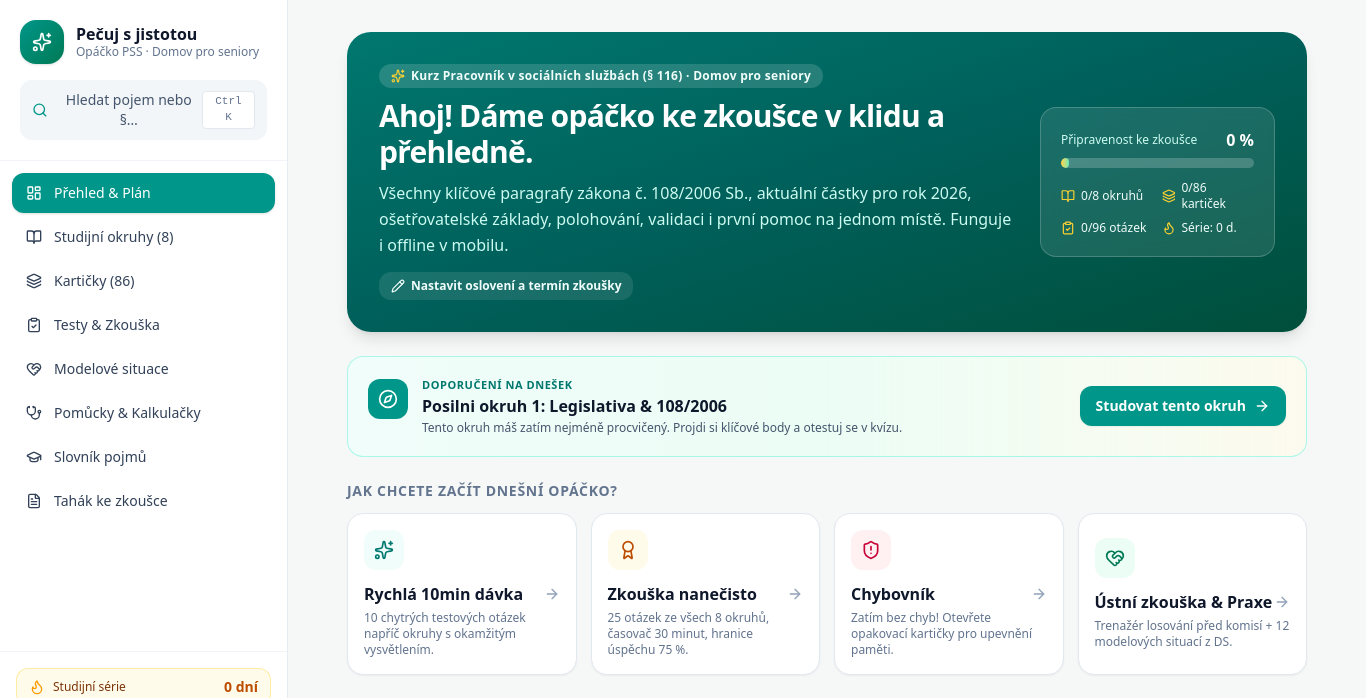
Test case: End-to-End UI Integration Flows (<App />) › navigates Dashboard -> Studijní okruhy, expands chapters, and marks module completed
The image size is (1366, 698).
Expected: the text "Připravenost ke zkoušce" is shown, [1061,132,1197,148]
Navigate to Studijní okruhy via sidebar
Click the button "Studijní okruhy (8)" at point(144, 237), box [12,217,275,257]
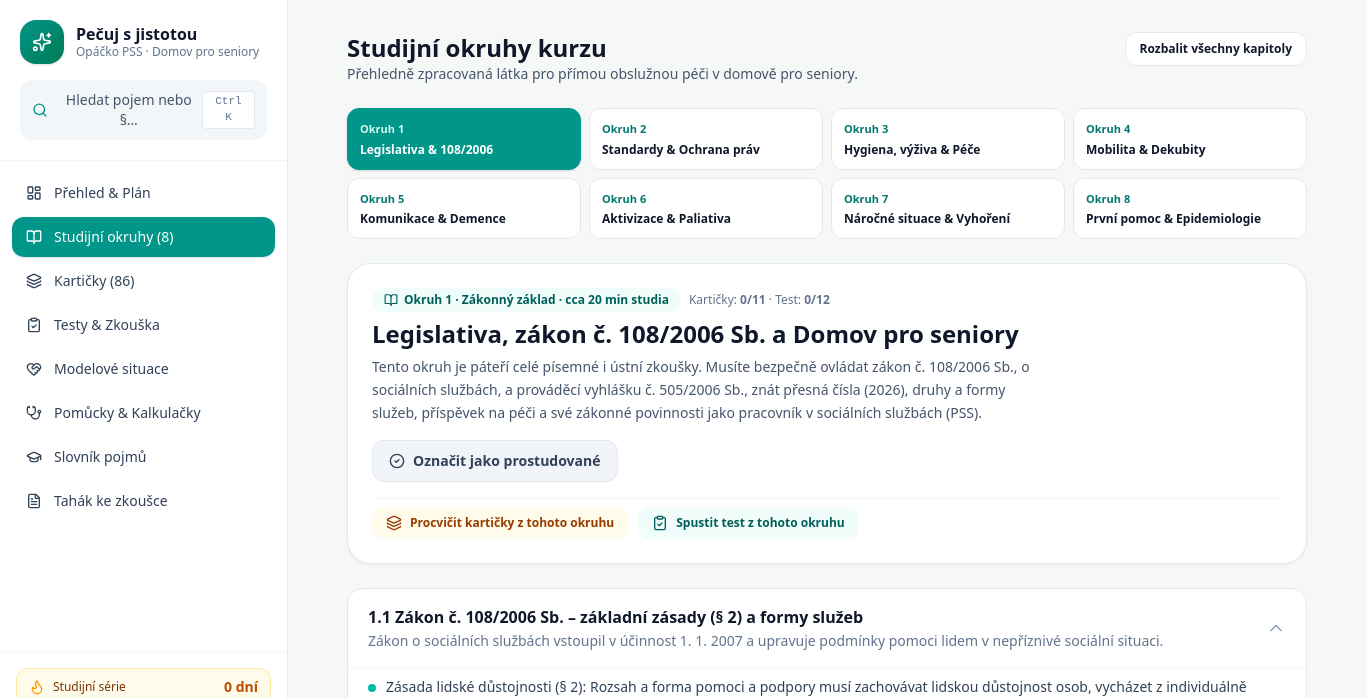
Expected: the heading "Studijní okruhy kurzu" is shown, [347,31,607,64]
Expand all chapters
Click the button "Rozbalit všechny kapitoly" at point(1216, 49), box [1125,32,1307,66]
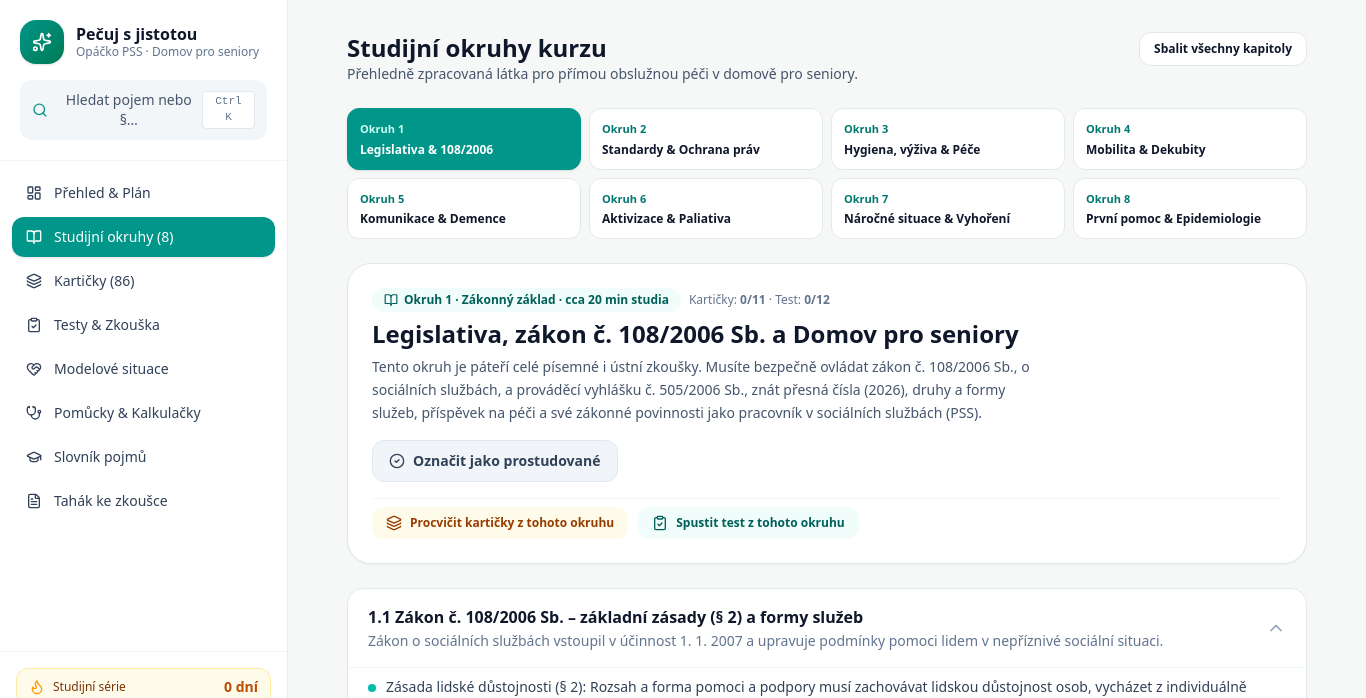
Mark as completed
Click the button "Označit jako prostudované" at point(495, 461), box [372,440,618,482]
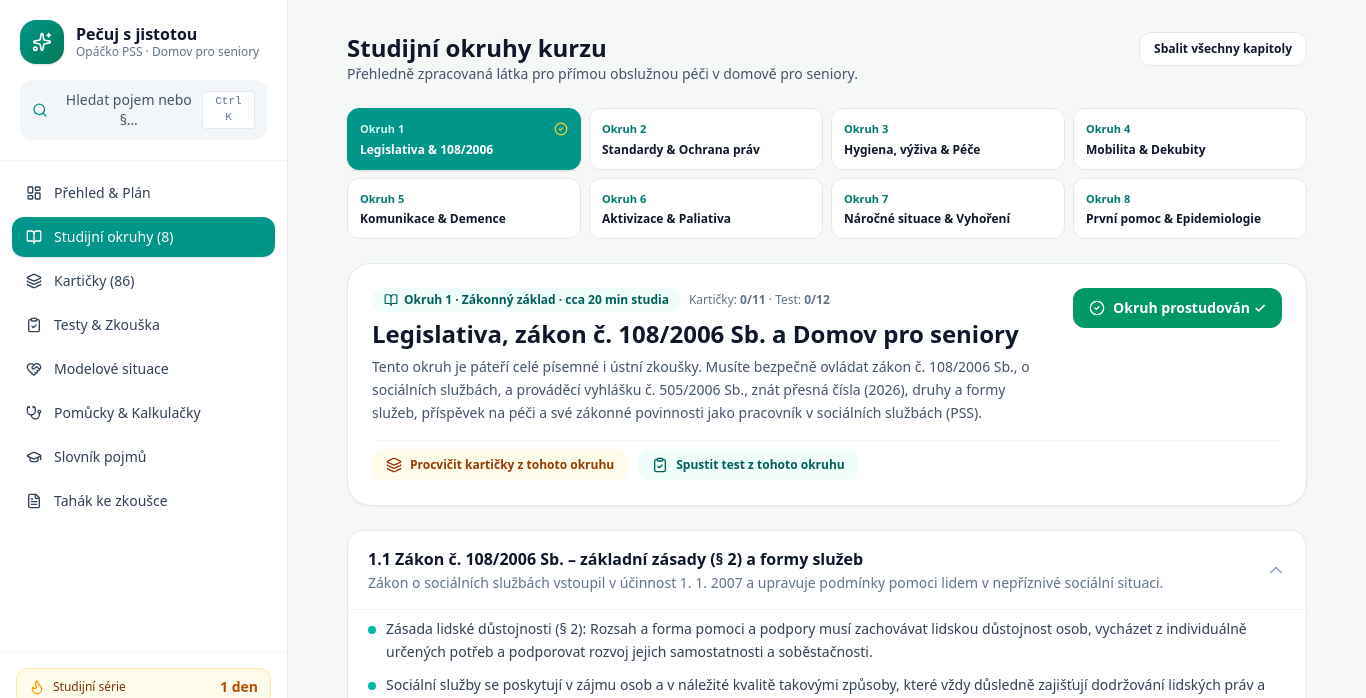
Expected: the button "Okruh prostudován ✓" is shown, [1073,288,1282,328]
